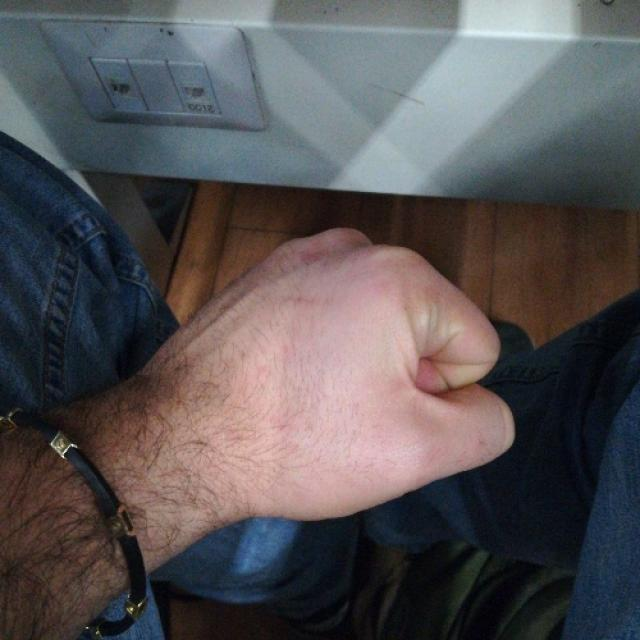rock: (202, 228, 518, 520)
